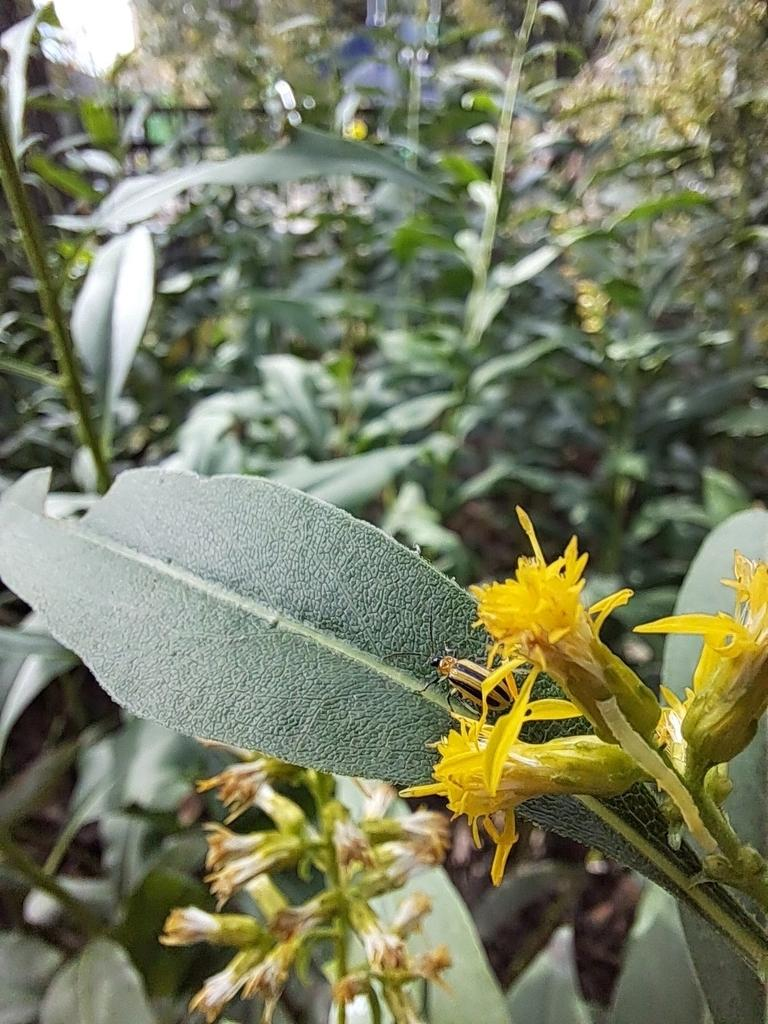potato_beetle: (413, 627, 536, 734)
